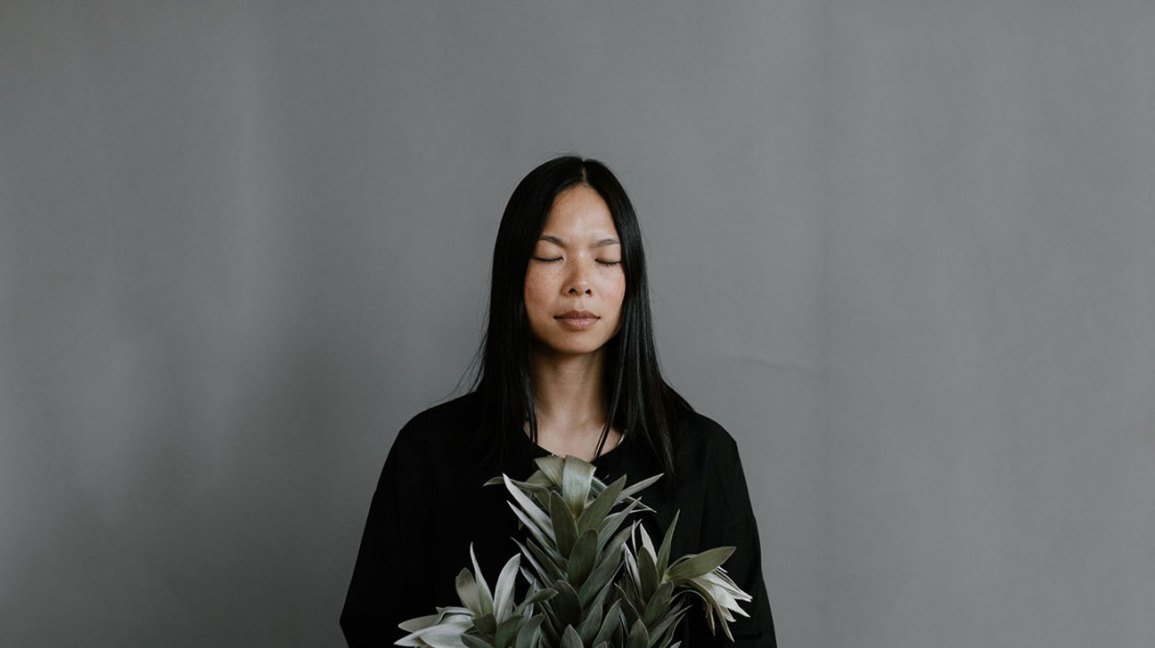noMask: (488, 152, 664, 385)
